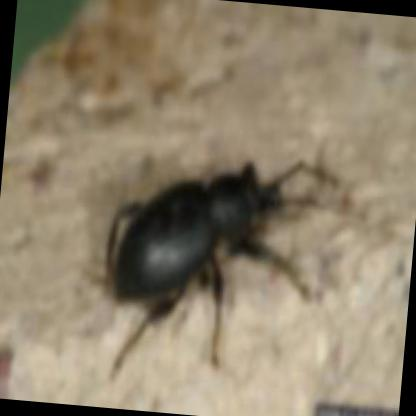ash weevil: (116, 161, 334, 326)
